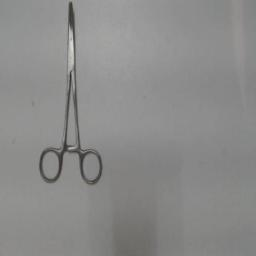Crile Artery Forceps: (34, 0, 106, 190)
